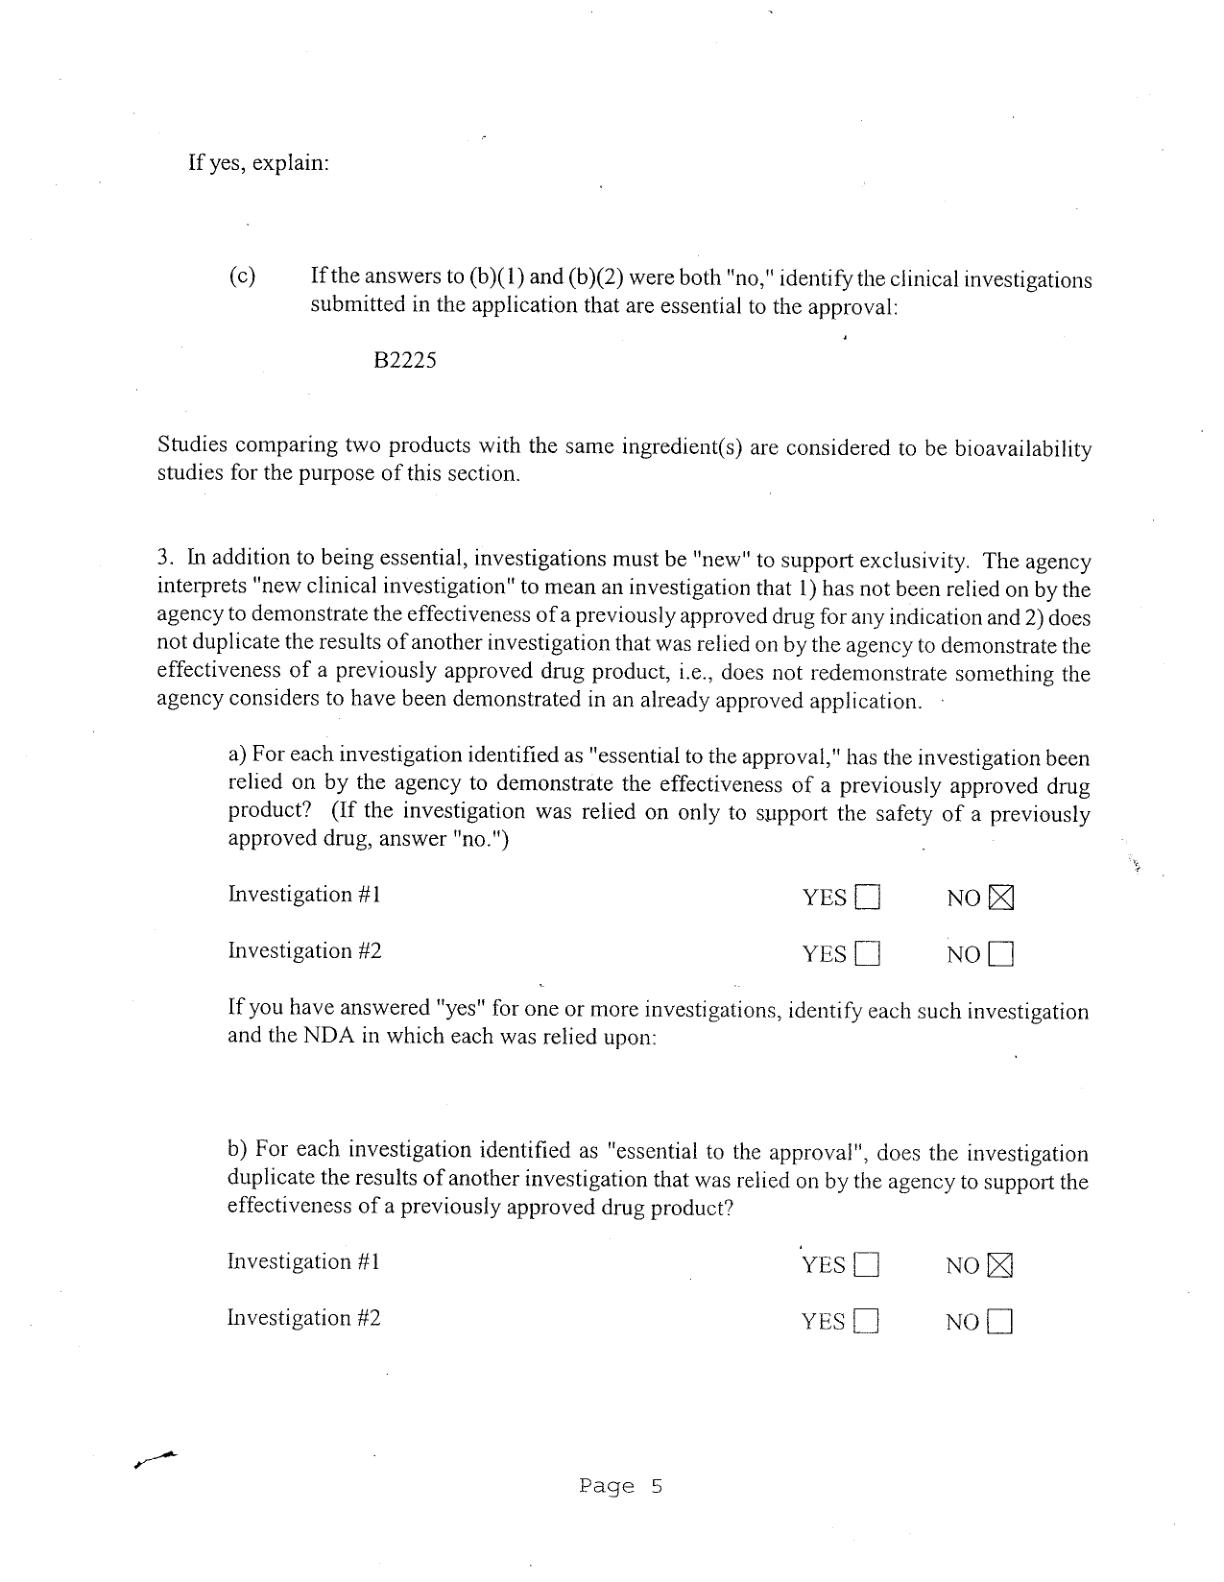nolines: (223, 877, 1016, 971), (223, 1248, 1015, 1341)
